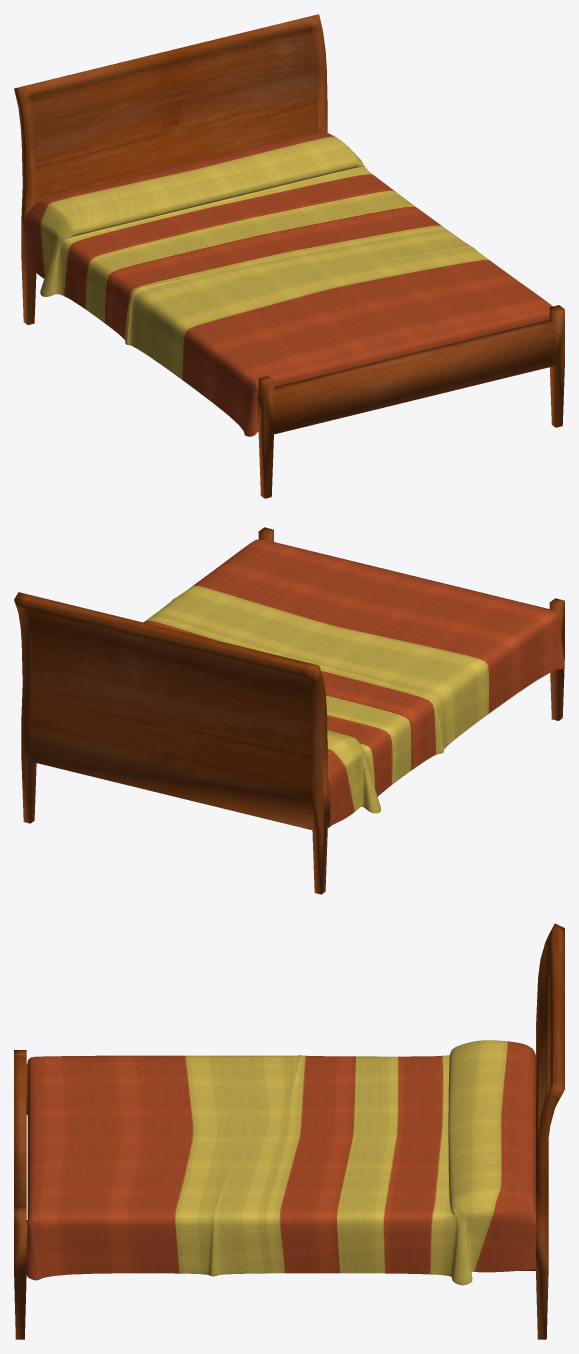
File: sweethome3d-scopia-bed-2.glb
3 views of the same model, one above another, from view 1: azimuth 30°, elevation 25°; view 2: azimuth 150°, elevation 25°; view 3: azimuth 270°, elevation 25° (orthographic). The views are drawn at different scales.
Parts seen in each view (by area): view 1: Colcha_Plane.002, bed_Plane; view 2: bed_Plane, Colcha_Plane.002; view 3: Colcha_Plane.002, bed_Plane.
Part boxes in pixels (left/top/right/bottom): Colcha_Plane.002: left=24, top=132, right=552, bottom=436; bed_Plane: left=14, top=14, right=564, bottom=498; bed_Plane: left=14, top=527, right=564, bottom=894; Colcha_Plane.002: left=143, top=539, right=564, bottom=825; Colcha_Plane.002: left=26, top=1040, right=535, bottom=1285; bed_Plane: left=14, top=923, right=564, bottom=1339.
Bounding box in the file's own units: 169 × 111 × 216.
2 materials, 2 textured.
